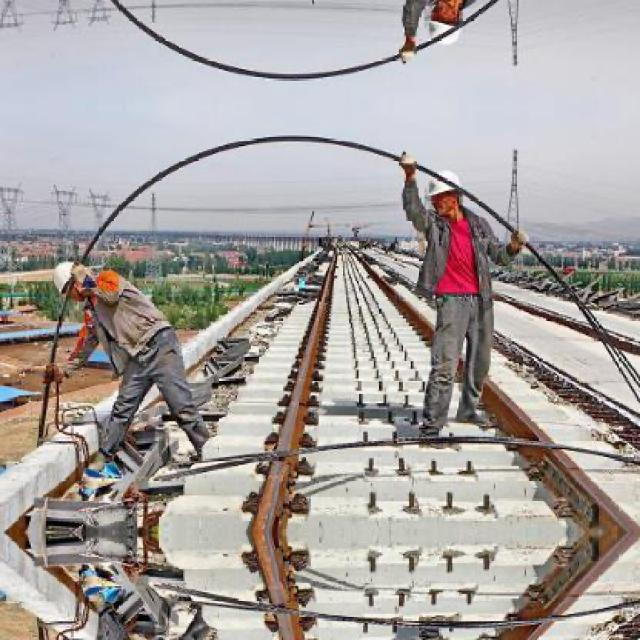con casco: (337, 143, 497, 280), (28, 260, 114, 329)
